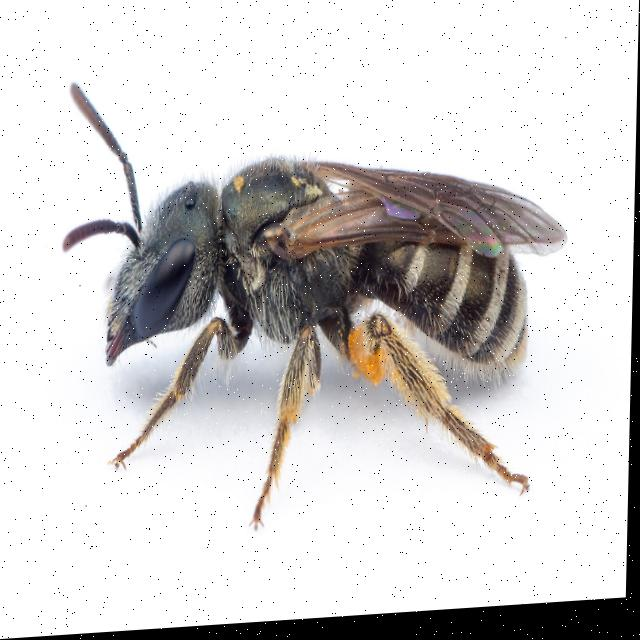Lasioglossum: (46, 36, 574, 551)
